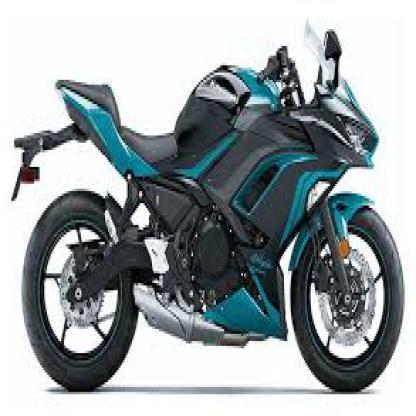Motorcycle: (10, 20, 406, 392)
